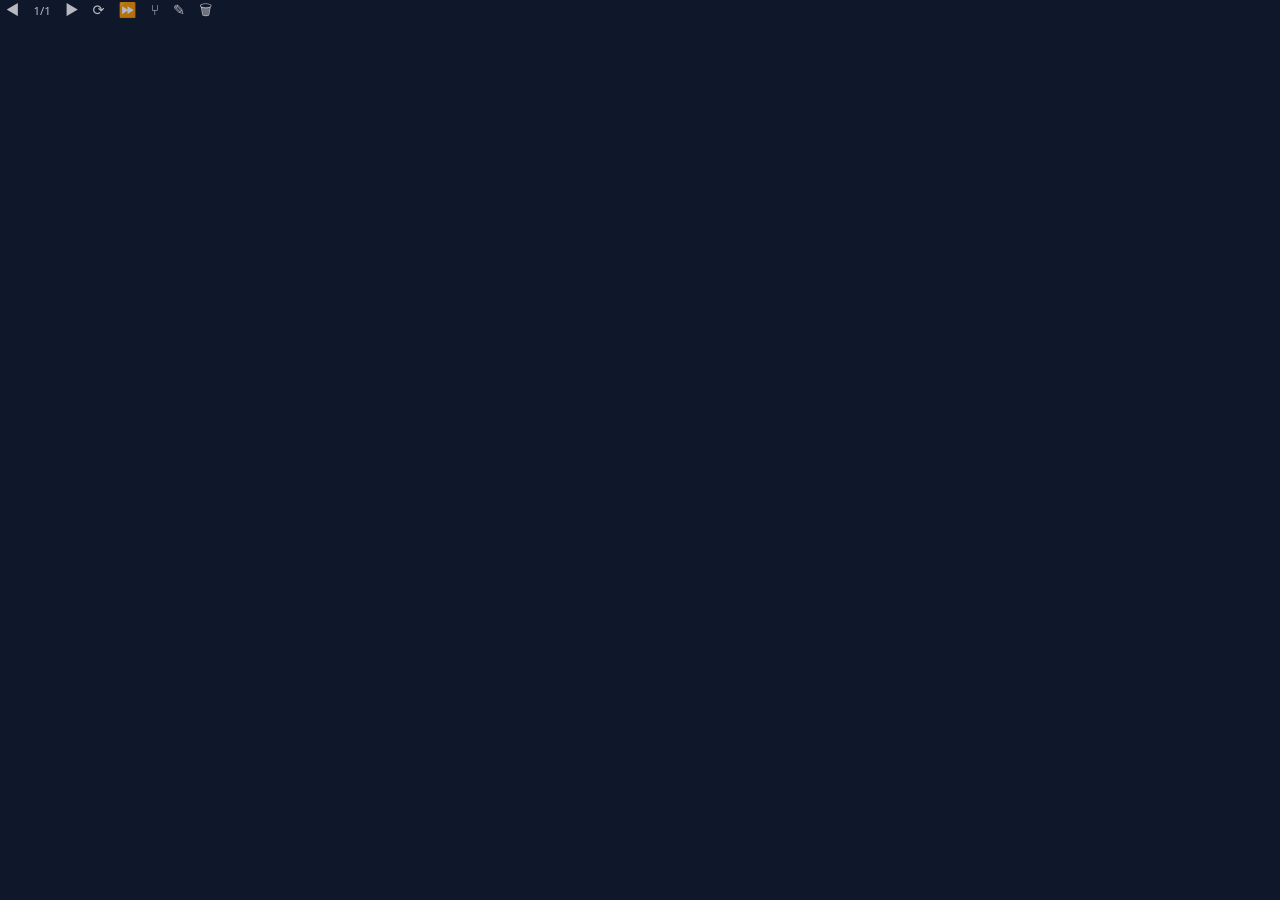
MessageActions named lookup › omits web when web search is off and a wiki is set
This screenshot has width=1280, height=900.
Step 1. Click the button titled "Regenerate" → x=98, y=10, box x1=86 y1=1 x2=110 y2=19
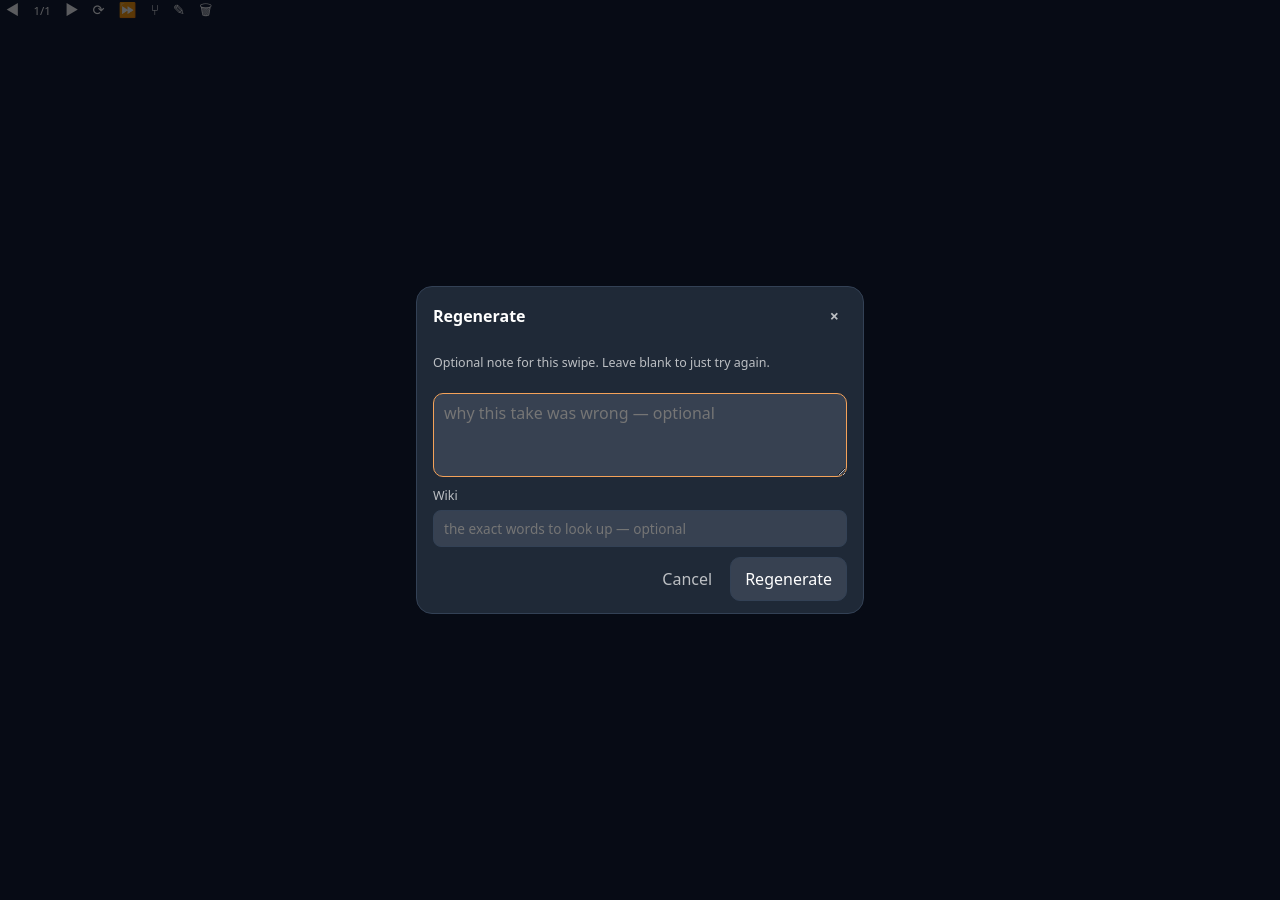
expect the text "Wiki" is shown: met, box x1=433 y1=487 x2=458 y2=504
expect the field with test id "regen-lookup-query" is shown: met, box x1=433 y1=510 x2=847 y2=547
